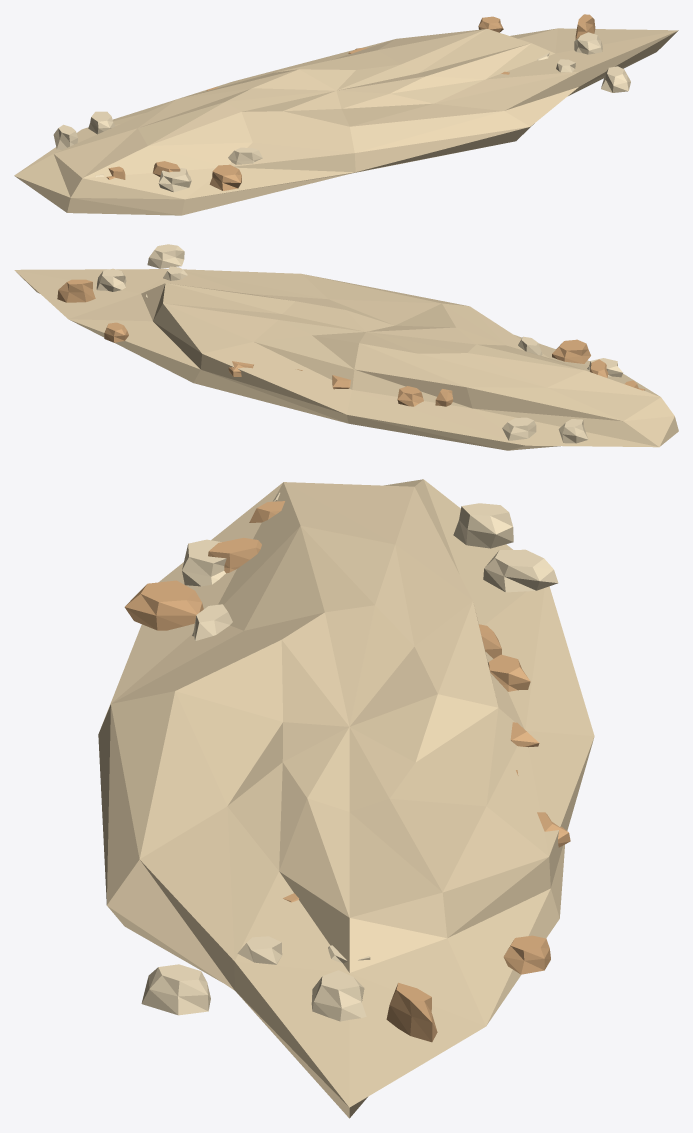
The model's file is desert-canyons-and-oases-gravel-bar-66566586__20939.glb.
3 renders of one model, top to bottom at view 1: azimuth 30°, elevation 25°; view 2: azimuth 150°, elevation 25°; view 3: azimuth 270°, elevation 25°, orthographic. The views are drawn at different scales.
Visible parts, largest first — view 1: gravel-bar; view 2: gravel-bar; view 3: gravel-bar.
Part boxes in pixels (x1,y1,x2,y2): gravel-bar: (14,14,678,215); gravel-bar: (14,244,678,450); gravel-bar: (98,479,594,1118).
Bounding box in the file's own units: 5.19 × 0.3774 × 1.72.
